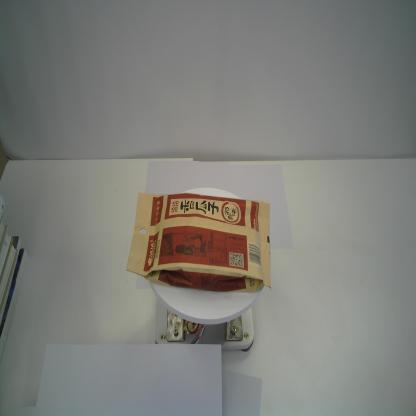Dried Food: (121, 189, 272, 293)
